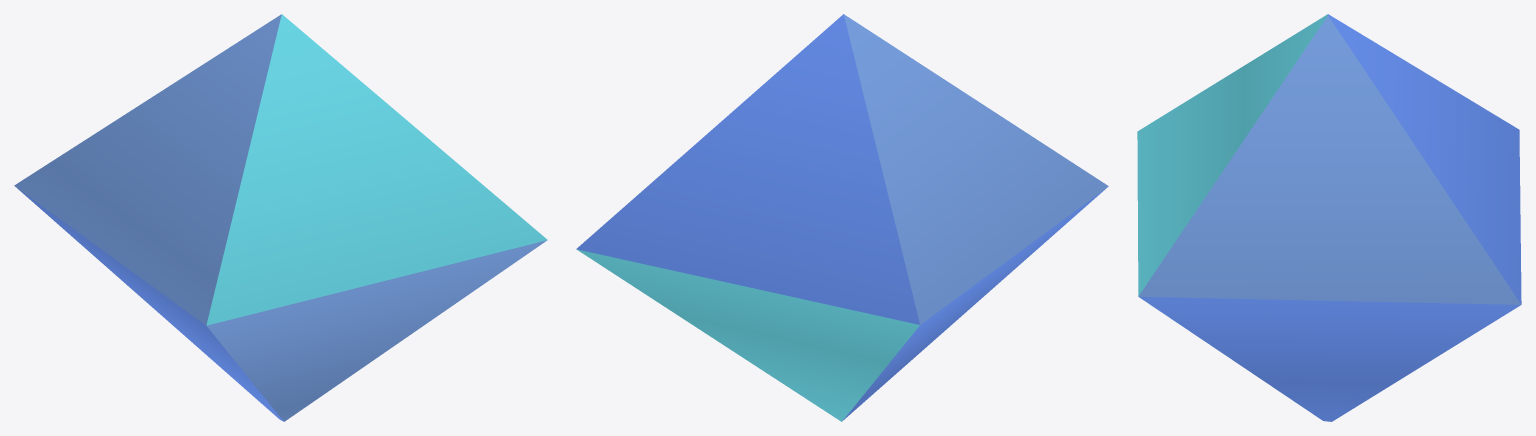
The model's file is cristal.glb.
The picture shows the model from 3 angles, left to right: view 1: azimuth 30°, elevation 25°; view 2: azimuth 150°, elevation 25°; view 3: azimuth 270°, elevation 25°; orthographic projection.
Parts seen in each view (by area): view 1: cristal; view 2: cristal; view 3: cristal.
Boxes of the visible parts, bbox=[...] form: cristal: bbox=[14, 14, 547, 421]; cristal: bbox=[576, 14, 1108, 421]; cristal: bbox=[1137, 14, 1521, 421].
Bounding box in the file's own units: 3.68 × 4.17 × 3.55.
